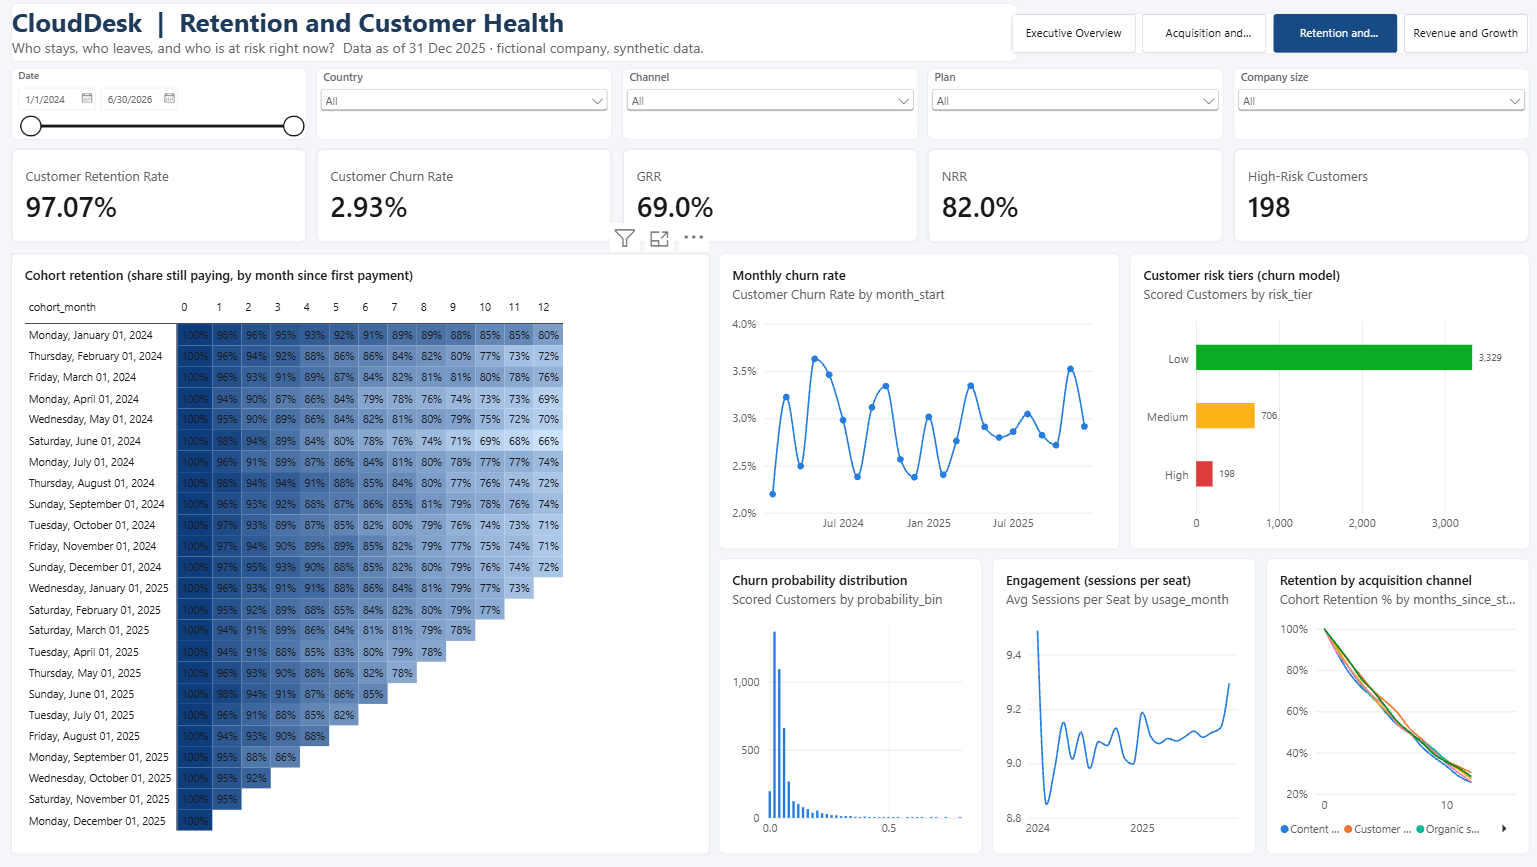

The dashboard page shown, as its layout file describes it:
{"tool":"powerbi","page":{"name":"Retention and Health","canvas":[1920,1080],"ordinal":2},"visuals":[{"type":"textbox","box":[24,8,1240,72],"z":0},{"type":"pageNavigator","box":[1256,20,640,50],"z":1000},{"type":"slicer","fields":{"Values":["dim_date.date"]},"box":[24,88,365,88],"z":2000},{"type":"slicer","fields":{"Values":["dim_accounts.country"]},"box":[401,88,365,88],"z":3000},{"type":"slicer","fields":{"Values":["dim_channel.channel_name"]},"box":[778,88,365,88],"z":4000},{"type":"slicer","fields":{"Values":["dim_plans.plan_name"]},"box":[1154,88,365,88],"z":5000},{"type":"slicer","fields":{"Values":["dim_accounts.company_size"]},"box":[1531,88,365,88],"z":6000},{"type":"cardVisual","fields":{"Data":["_Measures.Customer Retention Rate"]},"box":[24,186,365,117],"z":7000},{"type":"cardVisual","fields":{"Data":["_Measures.Customer Churn Rate"]},"box":[401,186,365,117],"z":8000},{"type":"cardVisual","fields":{"Data":["_Measures.GRR"]},"box":[778,186,365,117],"z":9000},{"type":"cardVisual","fields":{"Data":["_Measures.NRR"]},"box":[1154,186,365,117],"z":10000},{"type":"cardVisual","fields":{"Data":["_Measures.High-Risk Customers"]},"box":[1531,186,365,117],"z":11000},{"type":"pivotTable","title":"Cohort retention (share still paying, by month since first payment)","fields":{"Columns":["fct_mrr.months_since_start"],"Rows":["dim_accounts.cohort_month"],"Values":["_Measures.Cohort Retention %"]},"box":[24,315,861,742],"z":12000},{"type":"lineChart","title":"Monthly churn rate","fields":{"Category":["dim_date.month_start"],"Y":["_Measures.Customer Churn Rate"]},"box":[897,315,494,365],"z":13000},{"type":"clusteredBarChart","title":"Customer risk tiers (churn model)","fields":{"Category":["churn_scores.risk_tier"],"Y":["_Measures.Scored Customers"]},"box":[1403,315,493,365],"z":14000},{"type":"clusteredColumnChart","title":"Churn probability distribution","fields":{"Category":["churn_scores.probability_bin"],"Y":["_Measures.Scored Customers"]},"box":[897,692,325,365],"z":15000},{"type":"lineChart","title":"Engagement (sessions per seat)","fields":{"Category":["fct_usage_monthly.usage_month"],"Y":["_Measures.Avg Sessions per Seat"]},"box":[1234,692,325,365],"z":16000},{"type":"lineChart","title":"Retention by acquisition channel","fields":{"Category":["fct_mrr.months_since_start"],"Series":["dim_channel.channel_name"],"Y":["_Measures.Cohort Retention %"]},"box":[1571,692,325,365],"z":17000}]}

Visuals, with their boxes in screenshot pixels (x1, y1, x2, y2), scaled from the page's 1920x1080 canvas onto the 1537x867 screenshot:
textbox: BBox(19, 6, 1012, 64)
pageNavigator: BBox(1005, 16, 1518, 56)
slicer - dim_date.date: BBox(19, 71, 311, 141)
slicer - dim_accounts.country: BBox(321, 71, 613, 141)
slicer - dim_channel.channel_name: BBox(623, 71, 915, 141)
slicer - dim_plans.plan_name: BBox(924, 71, 1216, 141)
slicer - dim_accounts.company_size: BBox(1226, 71, 1518, 141)
cardVisual - _Measures.Customer Retention Rate: BBox(19, 149, 311, 243)
cardVisual - _Measures.Customer Churn Rate: BBox(321, 149, 613, 243)
cardVisual - _Measures.GRR: BBox(623, 149, 915, 243)
cardVisual - _Measures.NRR: BBox(924, 149, 1216, 243)
cardVisual - _Measures.High-Risk Customers: BBox(1226, 149, 1518, 243)
"Cohort retention (share still paying, by month since first payment)" pivotTable: BBox(19, 253, 708, 849)
"Monthly churn rate" lineChart: BBox(718, 253, 1114, 546)
"Customer risk tiers (churn model)" clusteredBarChart: BBox(1123, 253, 1518, 546)
"Churn probability distribution" clusteredColumnChart: BBox(718, 556, 978, 849)
"Engagement (sessions per seat)" lineChart: BBox(988, 556, 1248, 849)
"Retention by acquisition channel" lineChart: BBox(1258, 556, 1518, 849)
